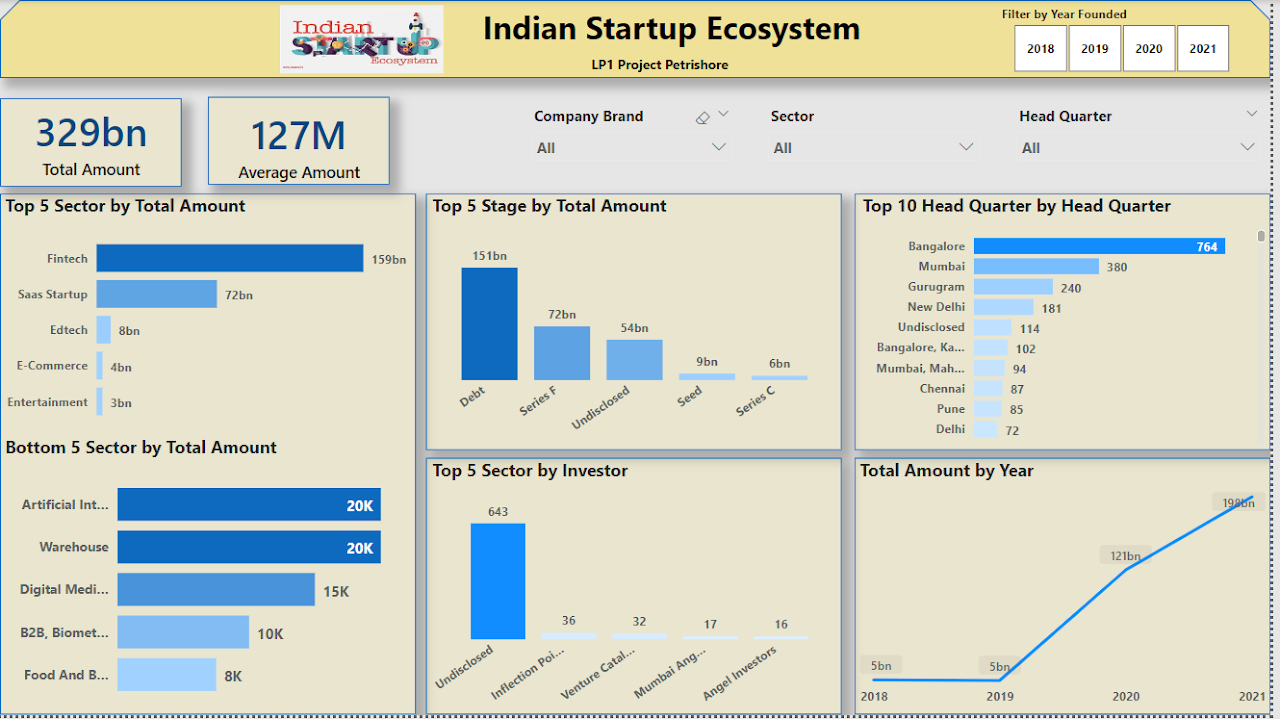

This screenshot's page, from the dashboard's own definition file:
{"tool":"powerbi","page":{"name":"Page 1","canvas":[1280,720],"ordinal":0},"visuals":[{"type":"shape","box":[209.6,98.2,183.1,88.7],"z":0},{"type":"shape","box":[0,98.3,183.1,89.3],"z":1000},{"type":"card","fields":{"Values":["Data_Final.Total Amount"]},"box":[0,98.2,183.1,88.7],"z":2000},{"type":"card","fields":{"Values":["Avg(Data_Final.Amount)"]},"box":[209.6,100,183.1,88.7],"z":3000},{"type":"shape","box":[0,195.2,419.1,525],"z":4000},{"type":"shape","box":[429.7,195.2,419.1,258.7],"z":5000},{"type":"shape","box":[860.9,195.2,419.1,258.7],"z":6000},{"type":"shape","box":[860.9,461.5,419.1,258.7],"z":7000},{"type":"shape","box":[429.7,461.5,419.1,258.7],"z":8000},{"type":"shape","box":[0,0,1280,78.7],"z":9000},{"type":"textbox","box":[419.1,0,515.9,53],"z":10000},{"type":"clusteredBarChart","title":"Top 5 Sector by Total Amount","fields":{"Category":["Data_Final.Sector"],"Y":["Data_Final.Total Amount"]},"box":[0,194.4,417.2,243.5],"z":11000},{"type":"clusteredBarChart","title":"Bottom 5 Sector by Total Amount","fields":{"Category":["Data_Final.Sector"],"Y":["Data_Final.Total Amount"]},"box":[0,438,419.1,281.3],"z":12000},{"type":"columnChart","title":"Top 5 Stage by Total Amount","fields":{"Category":["Data_Final.Stage"],"Y":["Data_Final.Total Amount"]},"box":[430.4,194.4,419.1,258.6],"z":13000},{"type":"lineChart","fields":{"Category":["Data_Final.DateColumn.Variation.Date Hierarchy.Year","Data_Final.DateColumn.Variation.Date Hierarchy.Quarter","Data_Final.DateColumn.Variation.Date Hierarchy.Month","Data_Final.DateColumn.Variation.Date Hierarchy.Day"],"Y":["Data_Final.Total Amount"]},"box":[860.9,461.5,419.1,258.7],"z":14000},{"type":"slicer","fields":{"Values":["Data_Final.Year Founded"]},"box":[997.1,0,266.3,78.7],"z":15000},{"type":"slicer","fields":{"Values":["Data_Final.Company Brand"]},"box":[525,99.8,222.4,87.8],"z":16000},{"type":"slicer","fields":{"Values":["Data_Final.Sector"]},"box":[764.1,99.8,233,87.8],"z":17000},{"type":"slicer","fields":{"Values":["Data_Final.Head Quarter"]},"box":[1013.7,99.8,266.3,87.8],"z":18000},{"type":"columnChart","title":"Top 5 Sector by Investor","fields":{"Category":["Data_Final.Investor"],"Y":["CountNonNull(Data_Final.Sector)"]},"box":[430.4,460.6,419.1,258.6],"z":18001},{"type":"image","box":[266.3,0,196.7,78.7],"z":18003},{"type":"clusteredBarChart","title":"Top 10 Head Quarter by Head Quarter","fields":{"Category":["Data_Final.Head Quarter"],"Y":["CountNonNull(Data_Final.Head Quarter)"]},"box":[864.7,194.4,415.3,258.6],"z":18004},{"type":"textbox","box":[581.8,49.5,165.8,29.1],"z":18005}]}

Visuals, with their boxes in screenshot pixels (x1, y1, x2, y2), scaled from the page's 1280x720 canvas onto the 1280x719 screenshot:
shape: left=210, top=98, right=393, bottom=187
shape: left=0, top=98, right=183, bottom=187
card - Data_Final.Total Amount: left=0, top=98, right=183, bottom=187
card - Avg(Data_Final.Amount): left=210, top=100, right=393, bottom=188
shape: left=0, top=195, right=419, bottom=718
shape: left=430, top=195, right=849, bottom=453
shape: left=861, top=195, right=1279, bottom=453
shape: left=861, top=461, right=1279, bottom=718
shape: left=430, top=461, right=849, bottom=718
shape: left=0, top=0, right=1279, bottom=79
textbox: left=419, top=0, right=935, bottom=53
"Top 5 Sector by Total Amount" clusteredBarChart: left=0, top=194, right=417, bottom=437
"Bottom 5 Sector by Total Amount" clusteredBarChart: left=0, top=437, right=419, bottom=718
"Top 5 Stage by Total Amount" columnChart: left=430, top=194, right=850, bottom=452
lineChart - Data_Final.DateColumn.Variation.Date Hierarchy.Year x Data_Final.DateColumn.Variation.Date Hierarchy.Quarter: left=861, top=461, right=1279, bottom=718
slicer - Data_Final.Year Founded: left=997, top=0, right=1263, bottom=79
slicer - Data_Final.Company Brand: left=525, top=100, right=747, bottom=187
slicer - Data_Final.Sector: left=764, top=100, right=997, bottom=187
slicer - Data_Final.Head Quarter: left=1014, top=100, right=1279, bottom=187
"Top 5 Sector by Investor" columnChart: left=430, top=460, right=850, bottom=718
image: left=266, top=0, right=463, bottom=79
"Top 10 Head Quarter by Head Quarter" clusteredBarChart: left=865, top=194, right=1279, bottom=452
textbox: left=582, top=49, right=748, bottom=78
